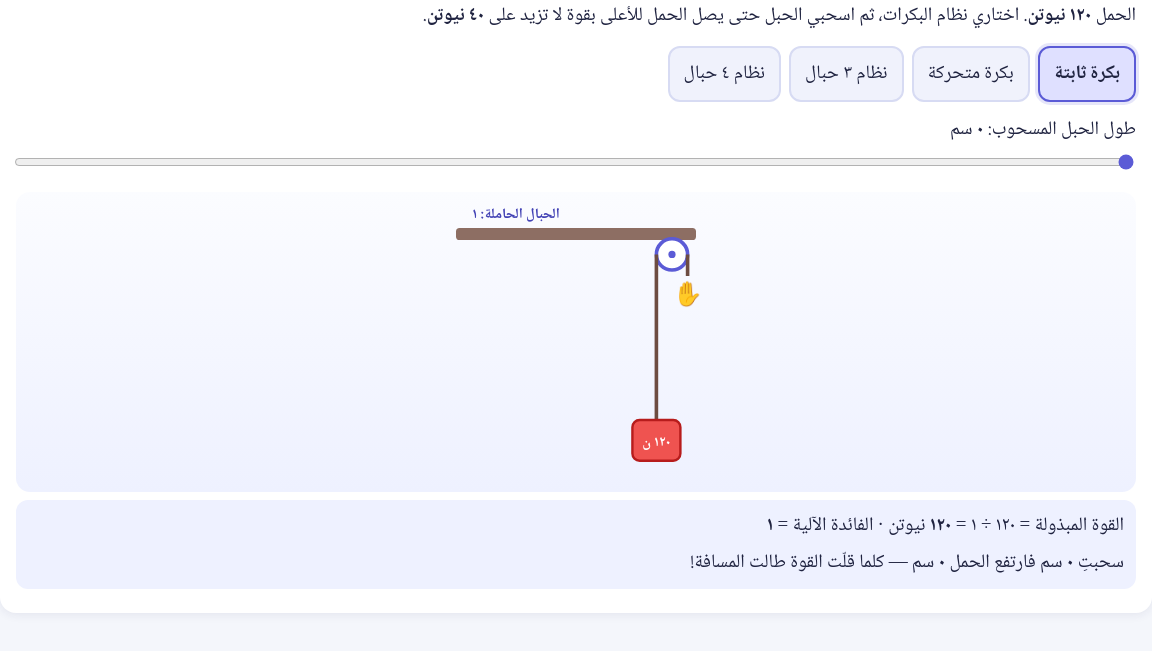
البكرات › بكرة ثابتة لا تحقق هدف ٤٠ نيوتن حتى لو وصل الحمل
The image size is (1152, 651).
Set the slider labelled "طول الحبل المسحوب: ٠ سم" to "80": (1126, 162) x1=14 y1=154 x2=1134 y2=170
(page scrolled)
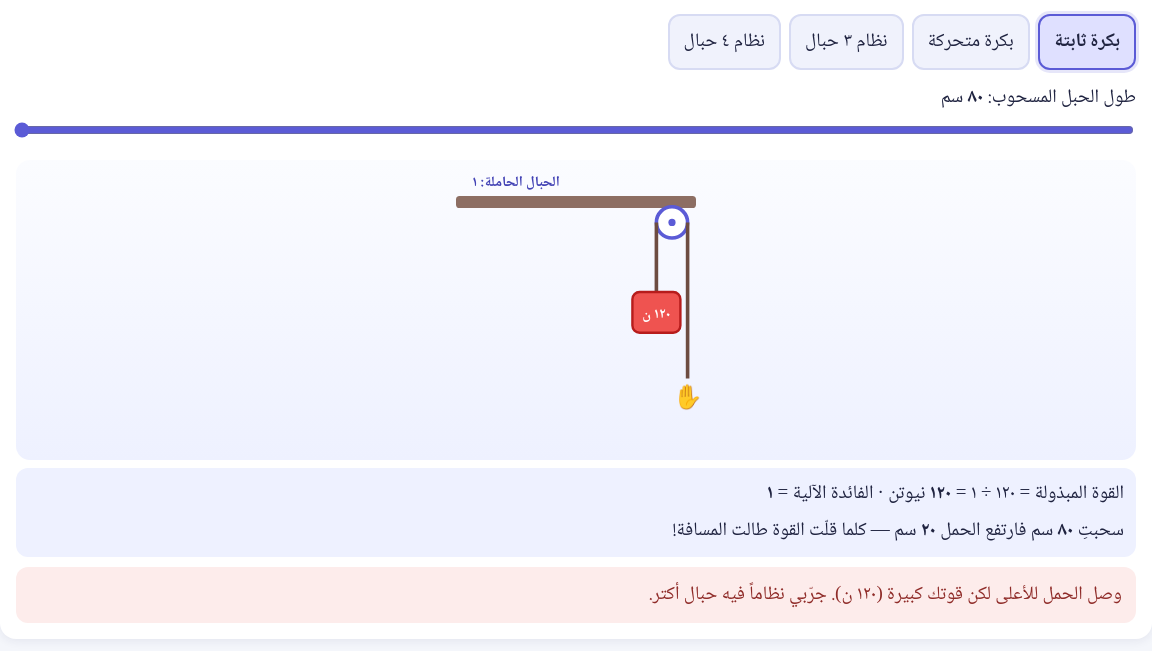
Expected: the text "وصل الحمل للأعلى لكن قوتك كبيرة (١٢٠ ن). جرّبي نظاماً فيه حبال أكتر." is shown, x1=16 y1=567 x2=1136 y2=623
